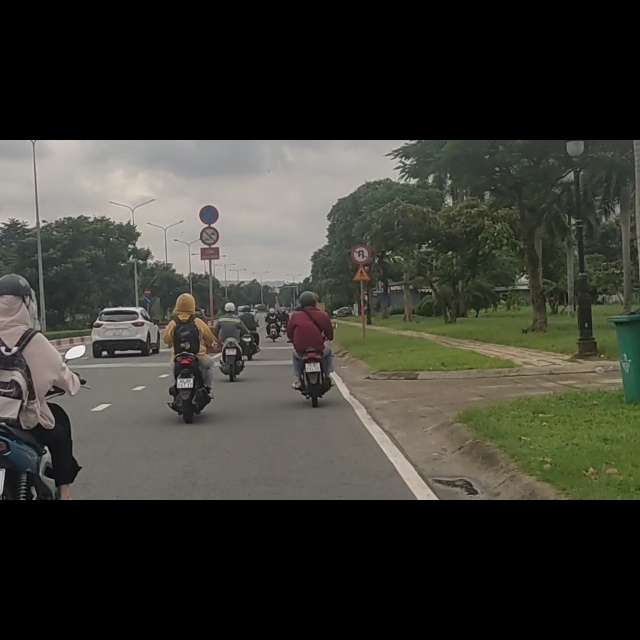bien_cam: (199, 116, 219, 149), (200, 154, 219, 188), (351, 186, 370, 220), (353, 222, 371, 251), (143, 262, 152, 277), (145, 276, 152, 290)
